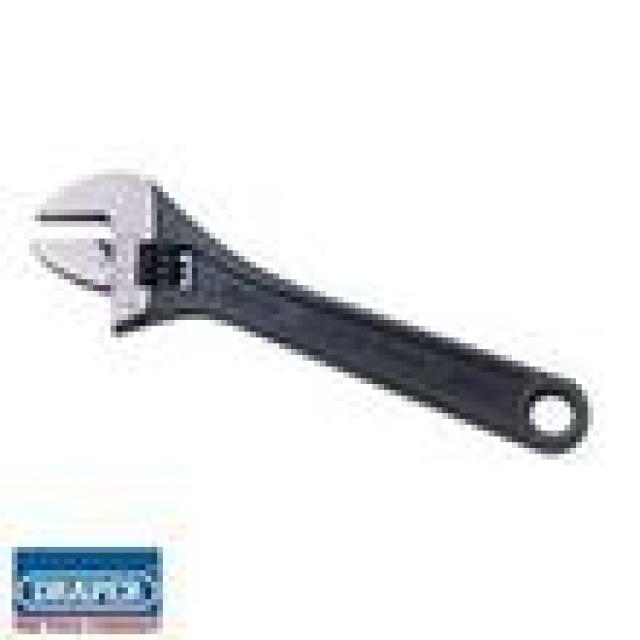wrench: (0, 158, 611, 455)
